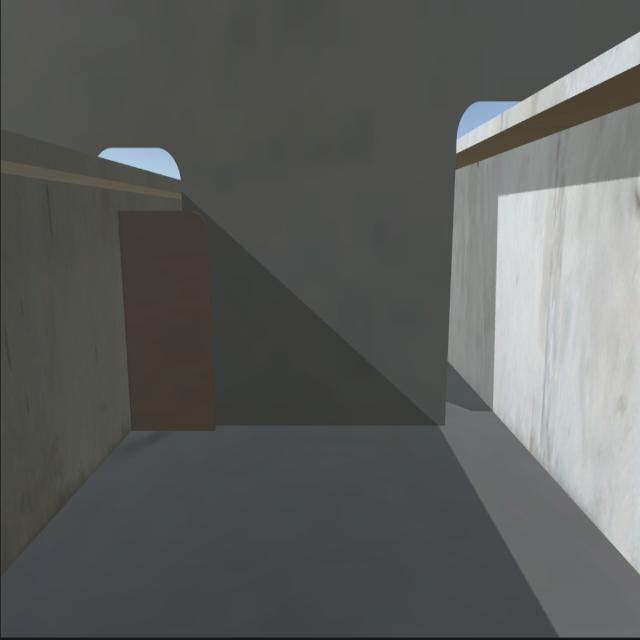fillet_yong_jeop_jang: (132, 420, 446, 432)
longi_yong_jeop_jang: (119, 218, 138, 428)
plate_CP05: (120, 210, 216, 433)
